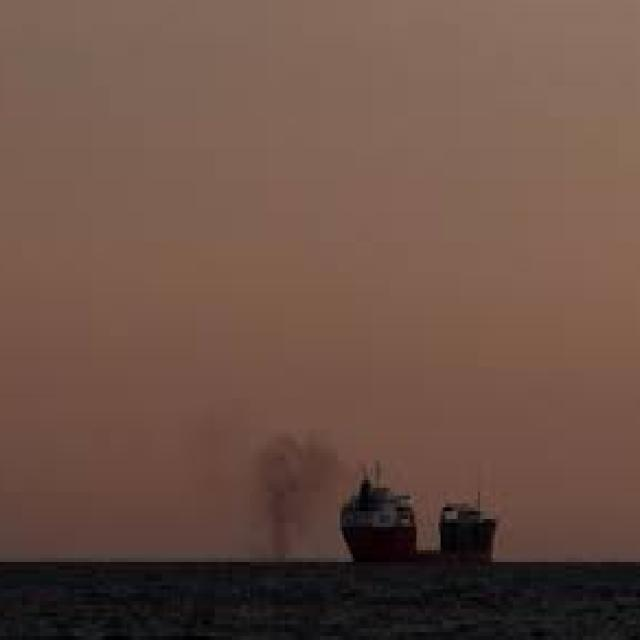cargoship: (340, 479, 419, 567), (430, 470, 496, 558)
